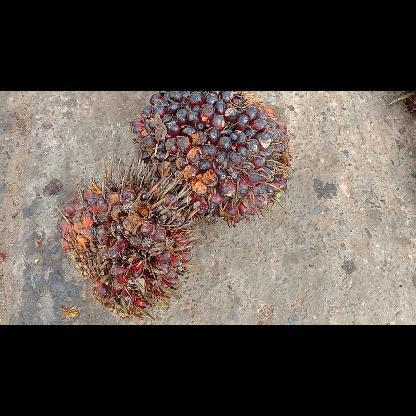Kurang masak: (129, 91, 294, 225)
TBS masak: (57, 155, 202, 319)
